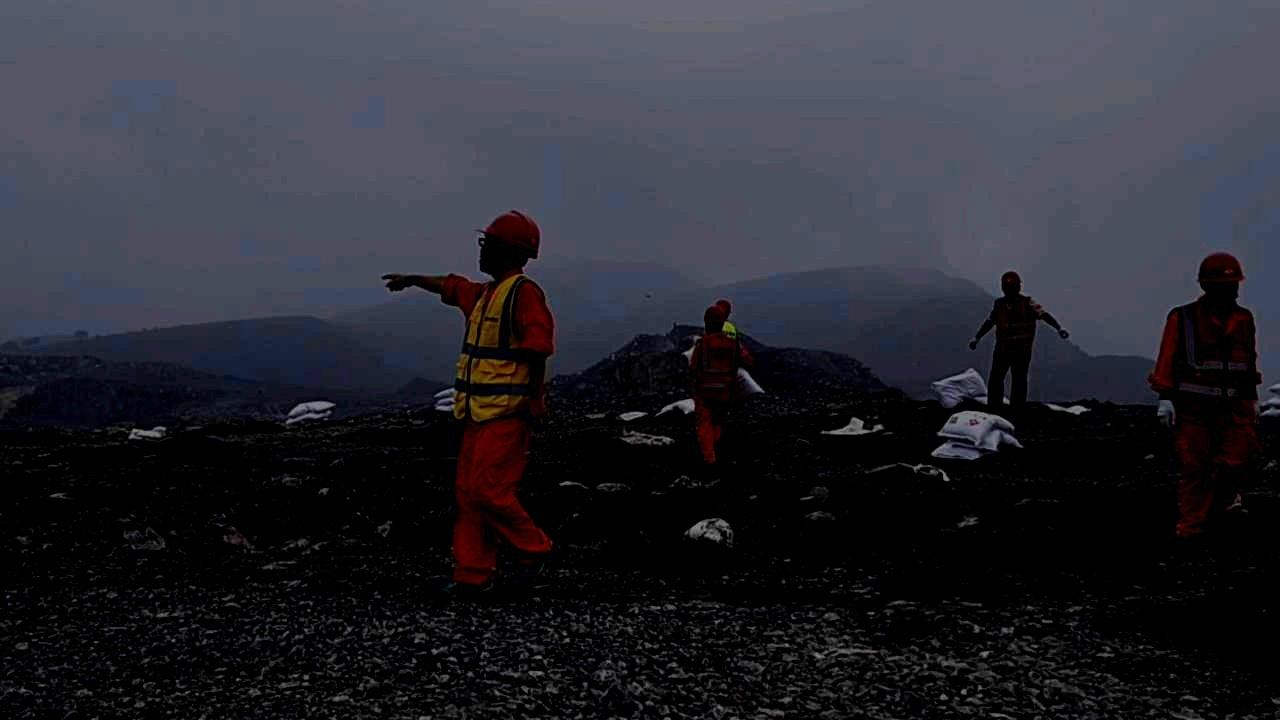helmet: (471, 208, 542, 275), (1196, 250, 1247, 303), (1000, 270, 1023, 298), (704, 305, 726, 333), (716, 298, 733, 322)
